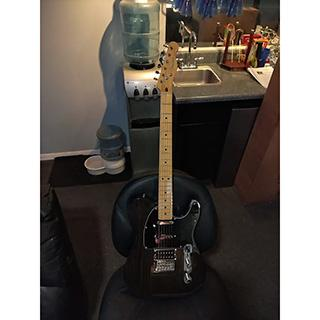Fender Telecaster: (120, 39, 211, 299)
HSS: (155, 219, 180, 263)
